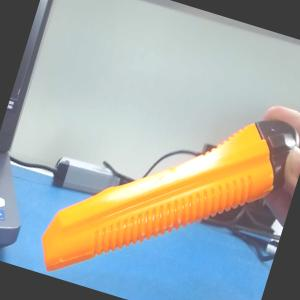estilete: (32, 62, 300, 300)
